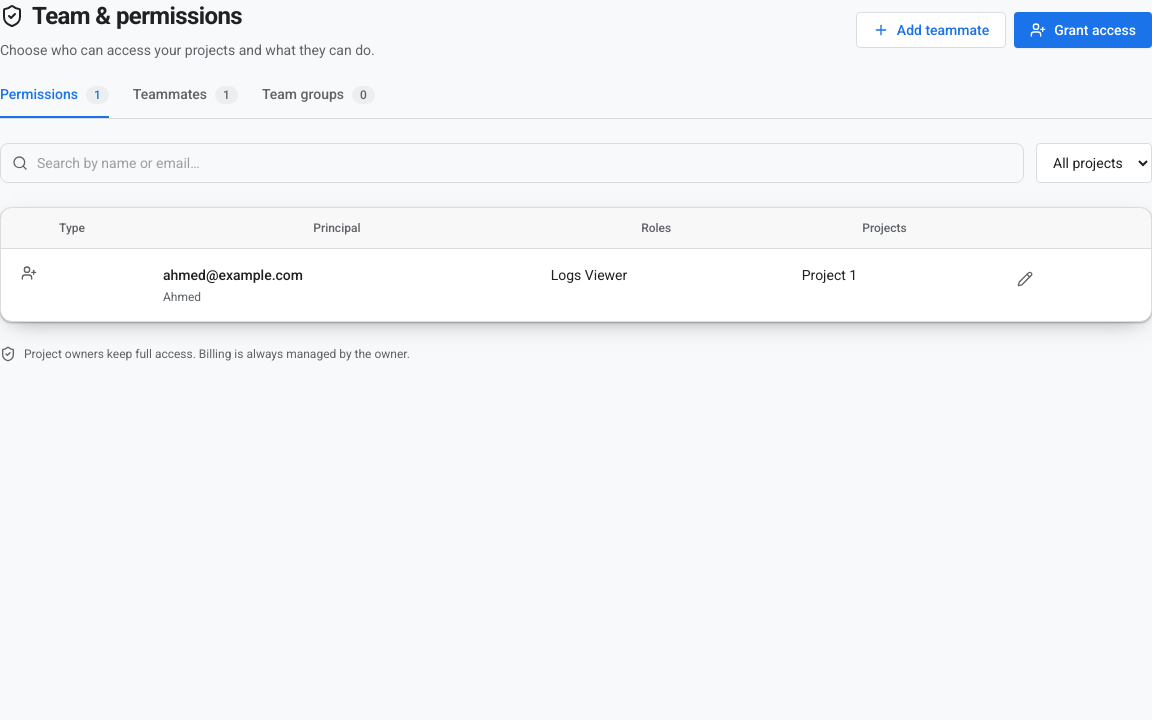
Test: Project Access › explains that removing a verified teammate preserves their login account
Click the tab "Teammates1".
click(185, 101)  # box [133,84,238,118]
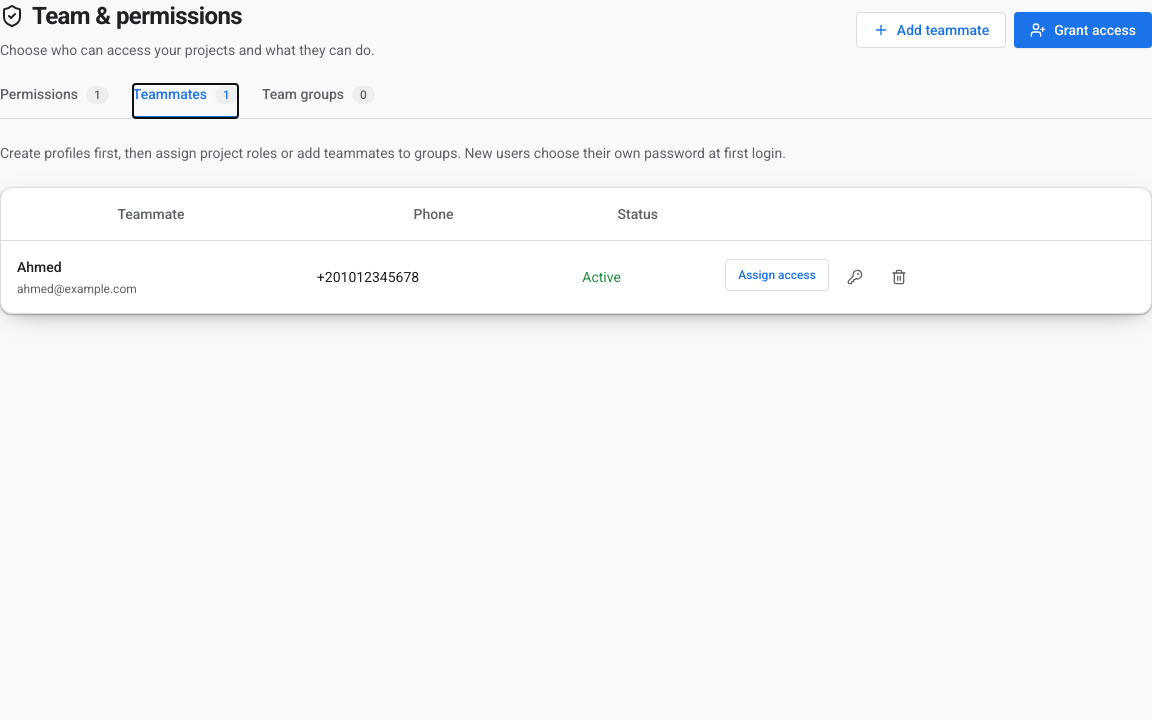
Click the button named "Remove teammate Ahmed".
click(899, 277)  # box [881,259,917,295]
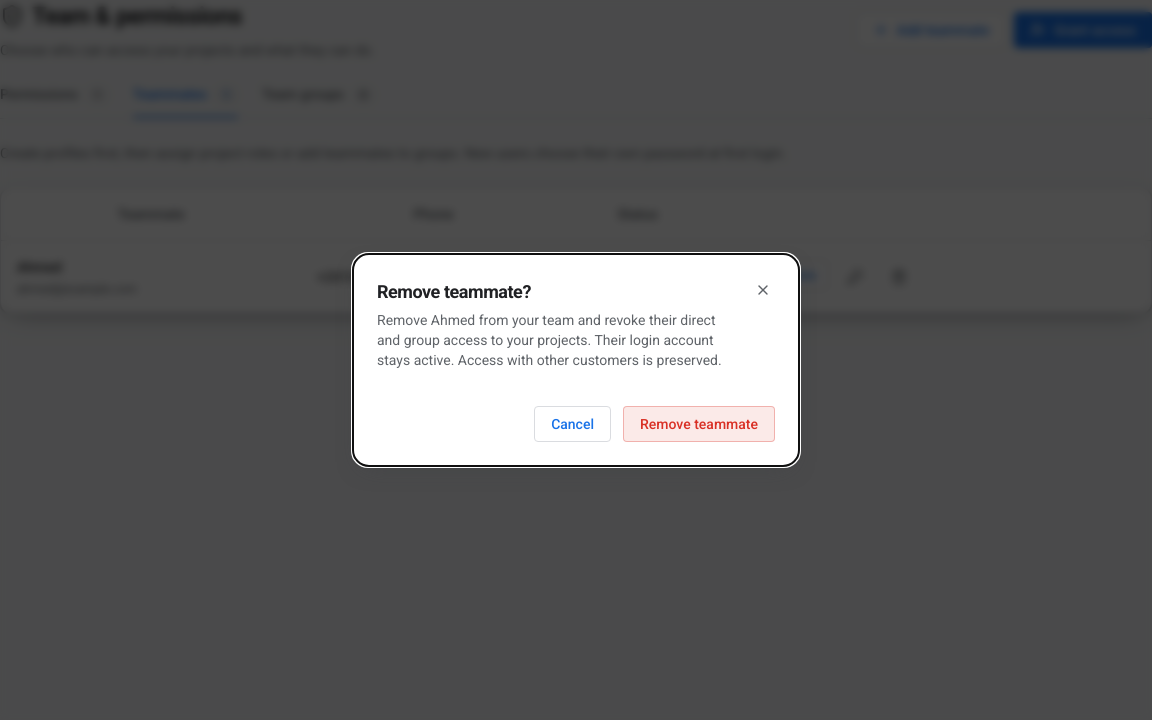
Expected: the dialog "Remove teammate?" shows "Their login account stays active.", [377,312,722,368]
